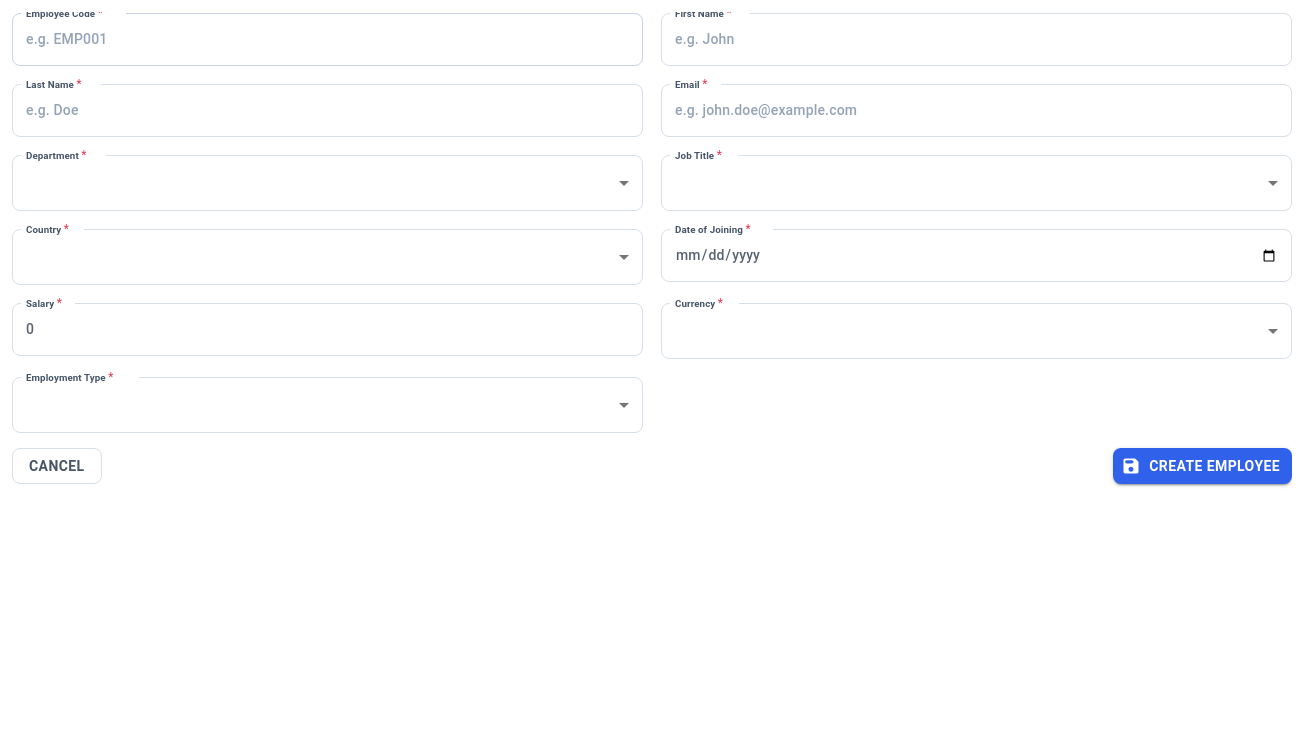
Scenario: EmployeeForm › shows validation errors and does not submit invalid form
Click the button "Create Employee": (1203, 466) left=1113, top=448, right=1292, bottom=484
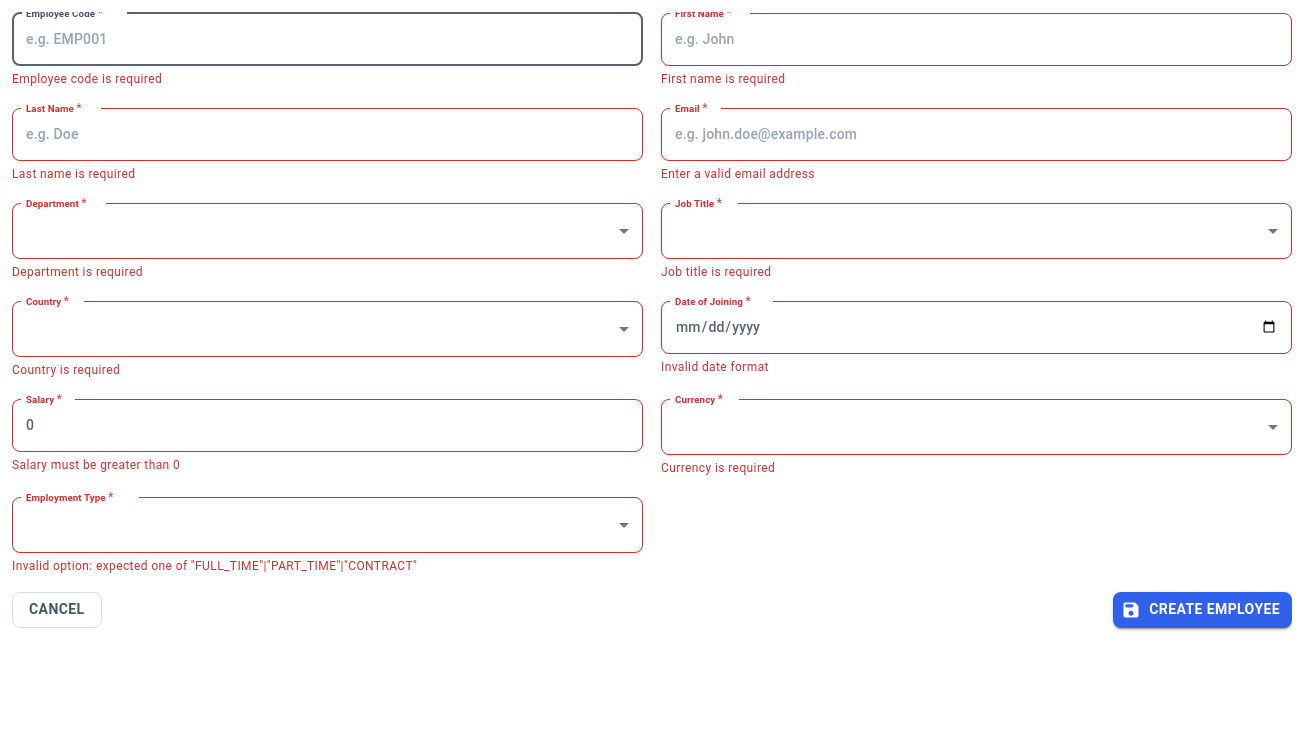
Result: the text "Employee code is required" is shown at left=12, top=72, right=162, bottom=86
